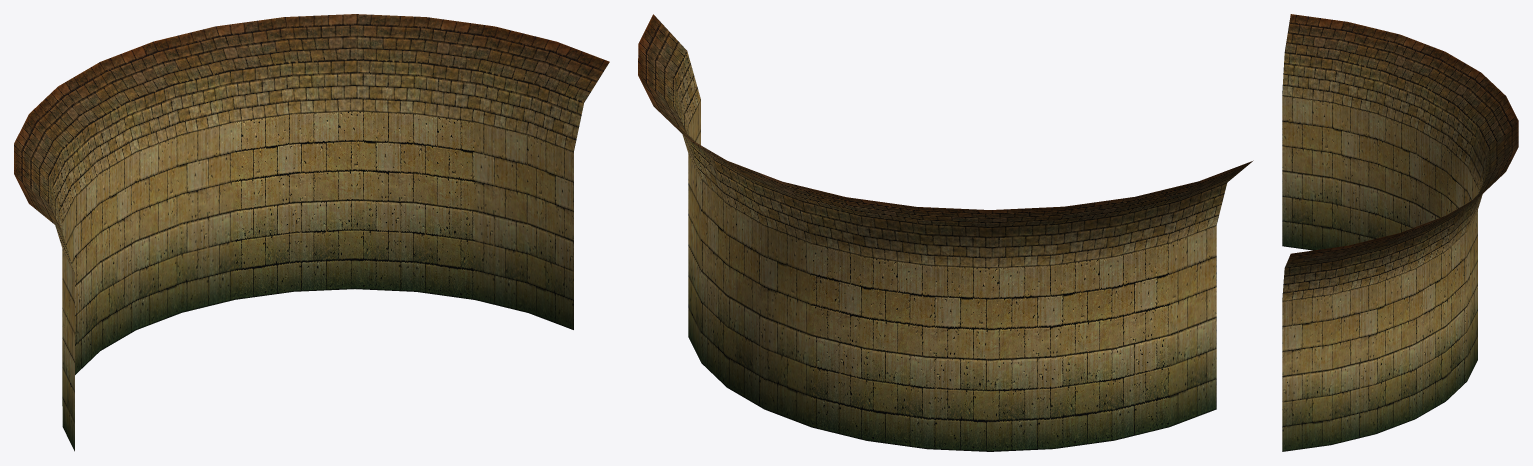
Rendered from Mission12_Sewer02_C.glb.
3 views of the same model, side by side, from view 1: azimuth 30°, elevation 25°; view 2: azimuth 150°, elevation 25°; view 3: azimuth 270°, elevation 25° (orthographic). The views are drawn at different scales.
Parts seen in each view (by area): view 1: MISSION12_SEWER02_C; view 2: MISSION12_SEWER02_C; view 3: MISSION12_SEWER02_C.
Boxes of the visible parts, left/top/right/bottom form: MISSION12_SEWER02_C: left=14, top=14, right=609, bottom=451; MISSION12_SEWER02_C: left=638, top=14, right=1253, bottom=451; MISSION12_SEWER02_C: left=1282, top=14, right=1518, bottom=451.
Bounding box in the file's own units: 13.68 × 5.73 × 5.71.
Materials: 2 (2 with a texture image).
